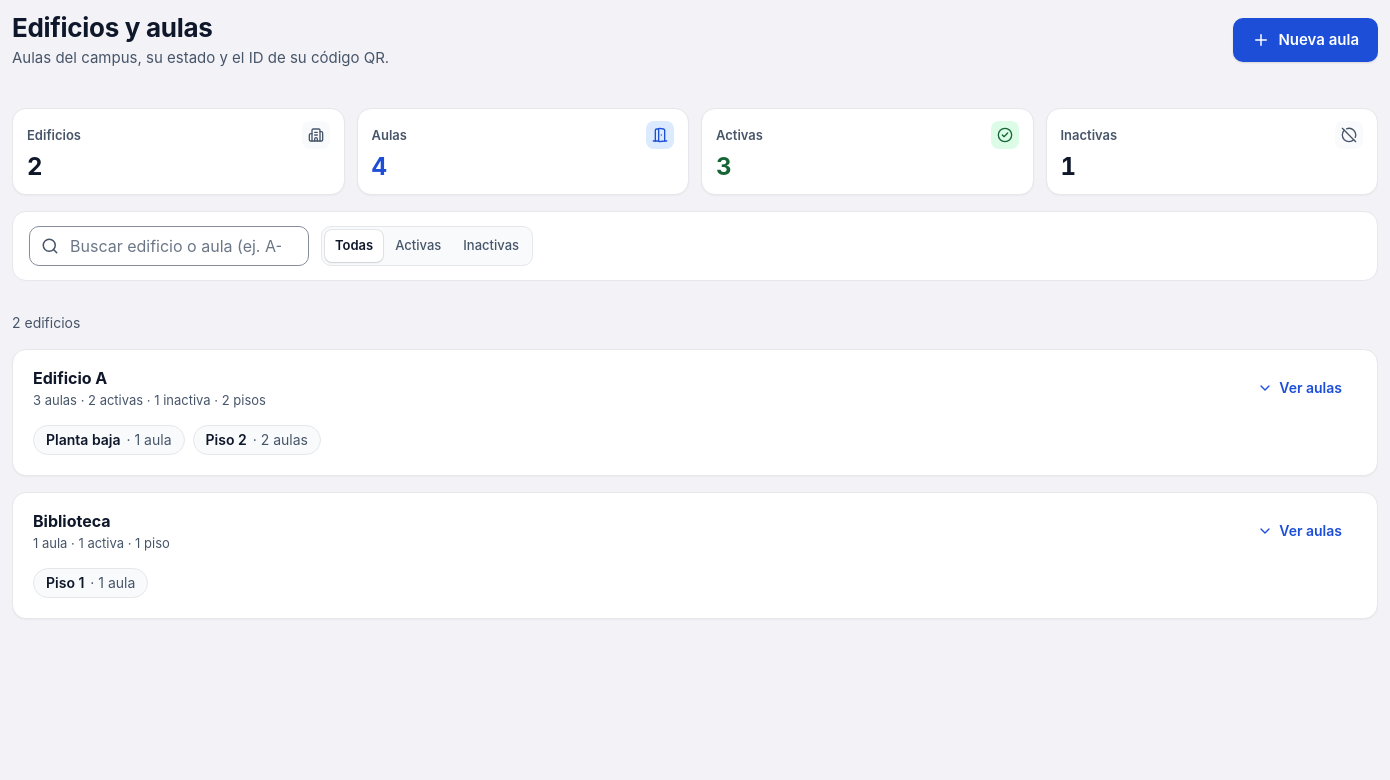
Test case: AdminEdificios › filtra por edificio, aula o estado y muestra sin resultados
Type "biblio" into the search field labelled "Buscar edificio o aula".
click(169, 246); type("biblio")  # box [29, 226, 309, 266]
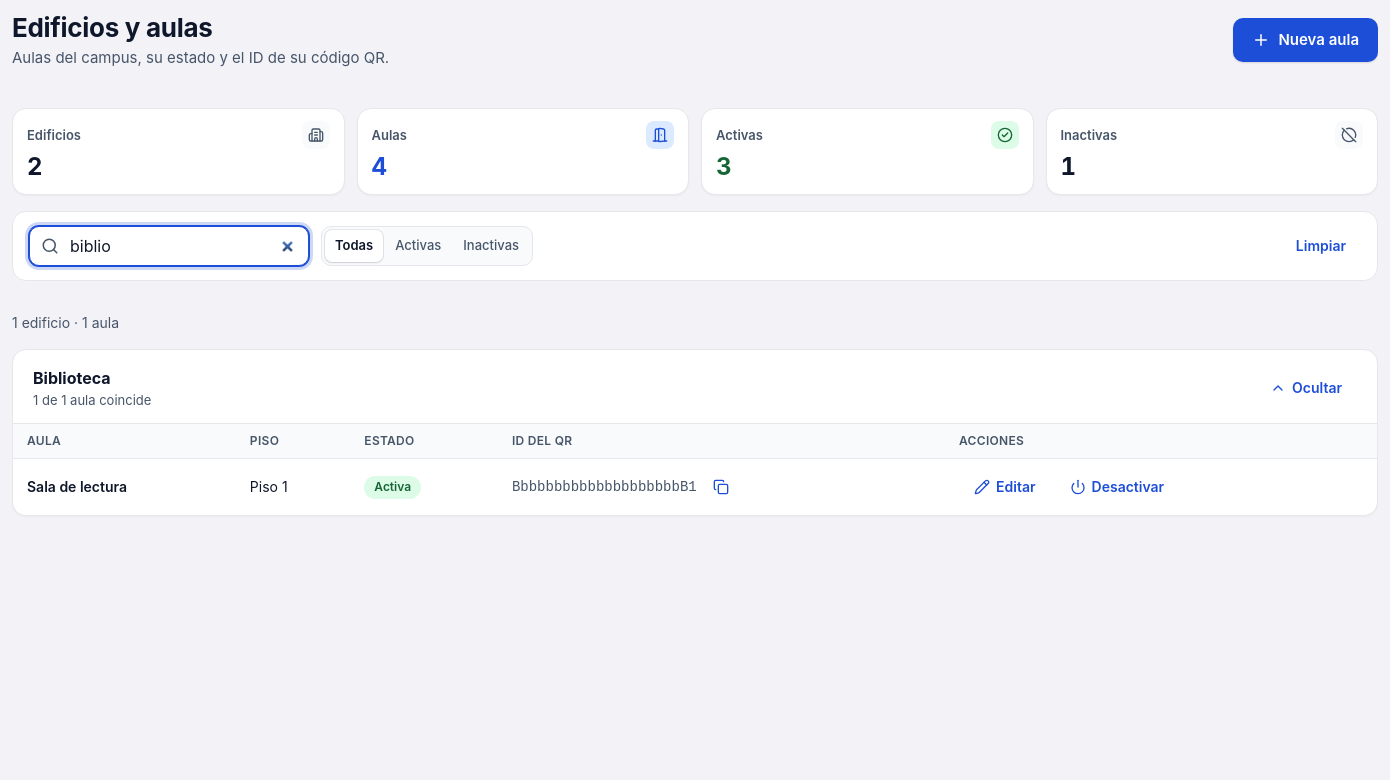
Expected: the heading "Biblioteca" is shown, [33, 368, 111, 388]
Now the heading "Edificio A" is gone
Replace the text in the search field named "Buscar edificio o aula" with "a-20" at (169, 246), box [29, 226, 309, 266]
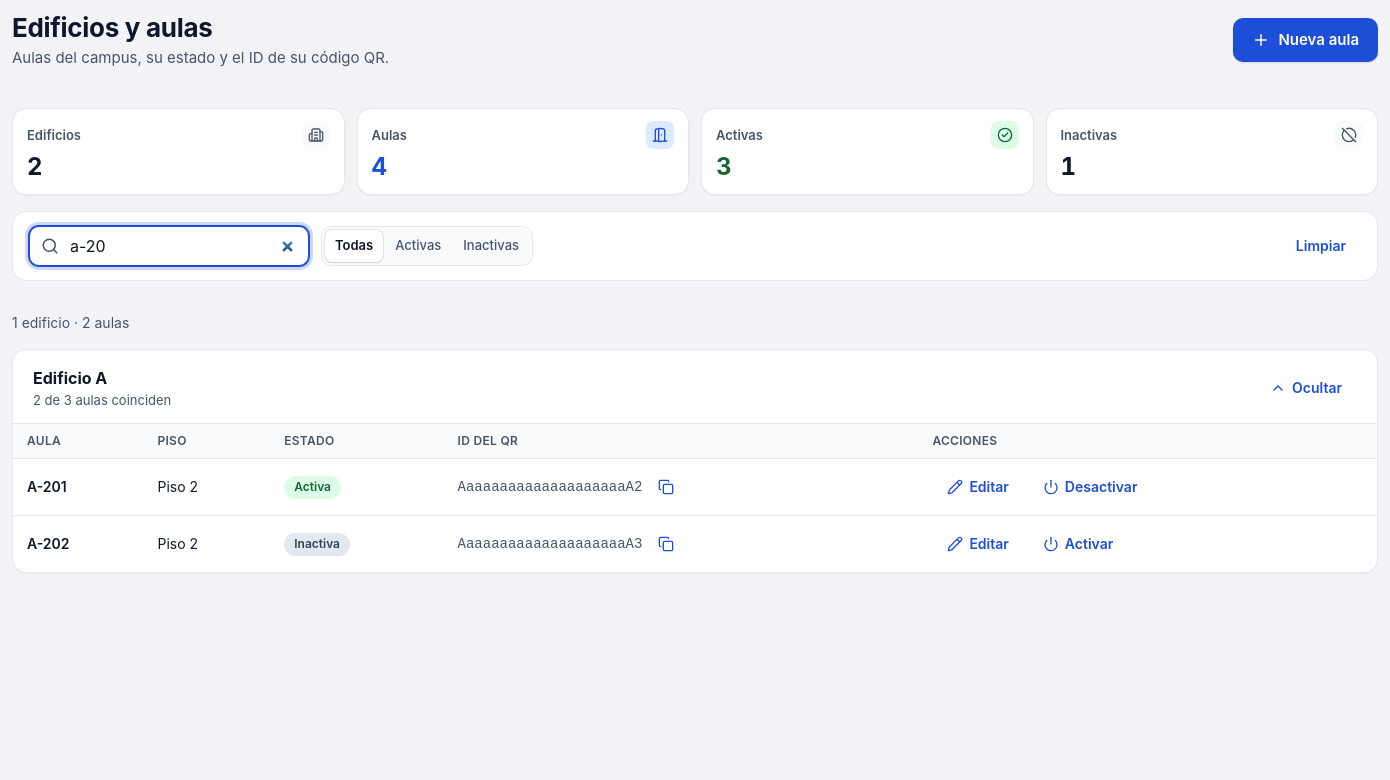
Now the text "2 de 3 aulas coinciden" is shown, box [33, 392, 171, 408]
Now the text "A-201" is shown, box [13, 459, 143, 516]
Click the button "Inactivas".
click(491, 246)  # box [453, 230, 529, 262]
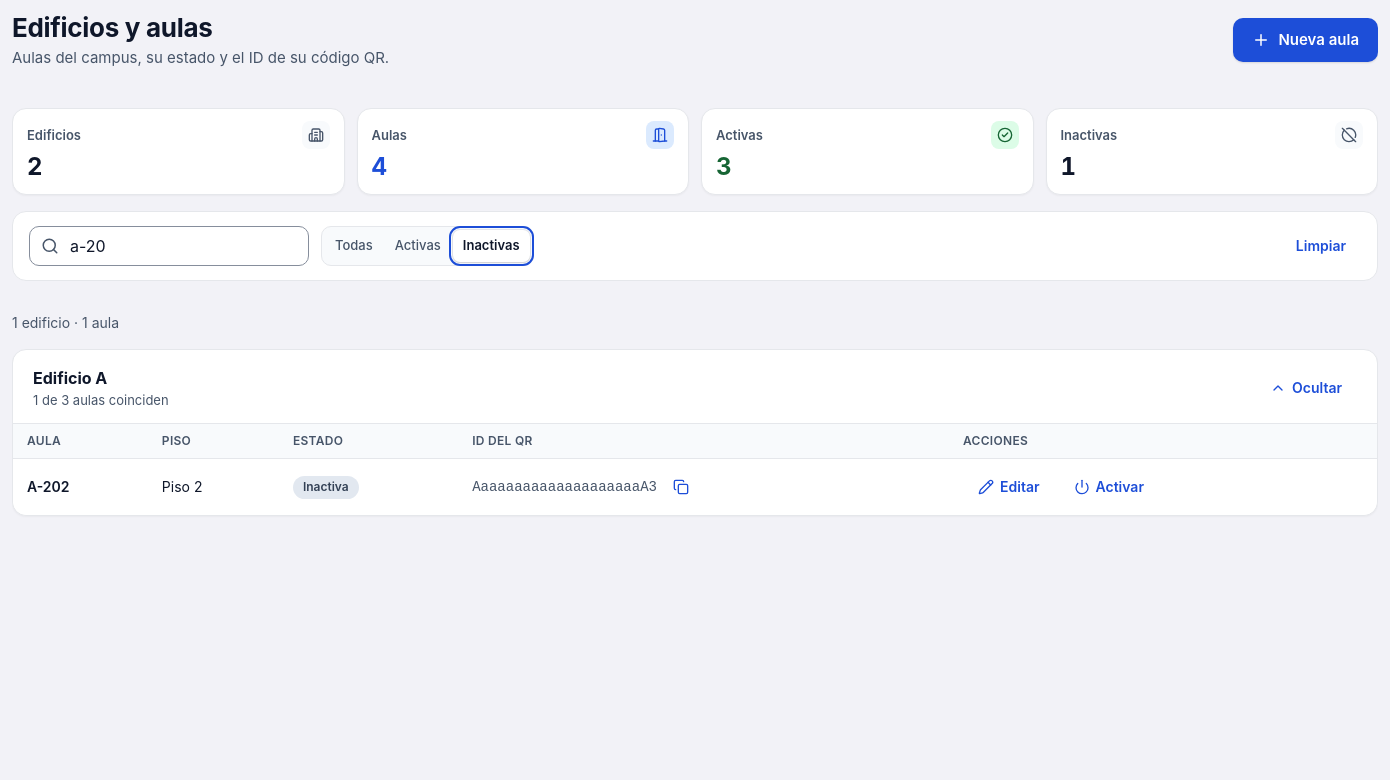
Now the text "1 de 3 aulas coinciden" is shown, box [33, 392, 169, 408]
Now the text "A-201" is gone
Replace the text in the search field named "Buscar edificio o aula" with "zzz" at (169, 246), box [29, 226, 309, 266]
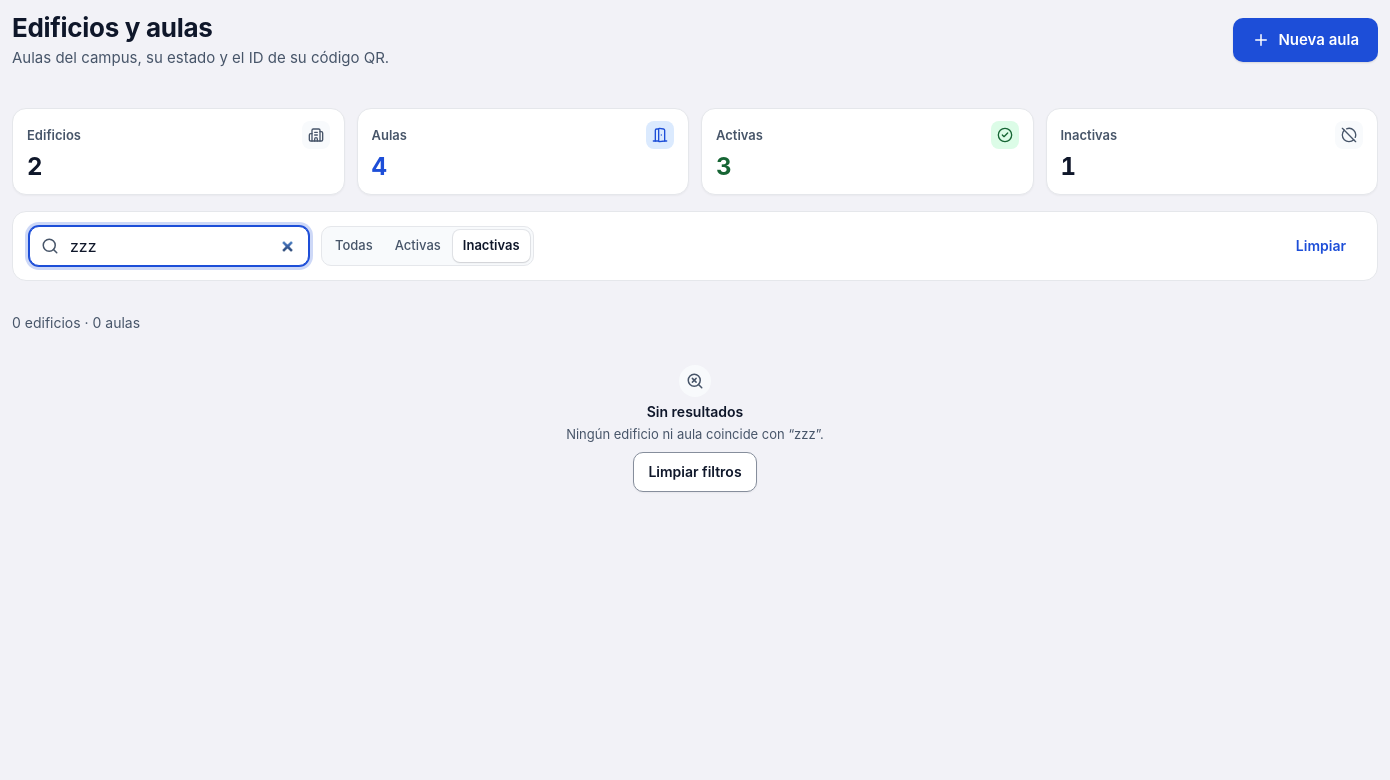
Now the heading "Sin resultados" is shown, box [647, 403, 743, 421]
Click the button "Limpiar filtros".
click(695, 472)  # box [633, 452, 757, 492]
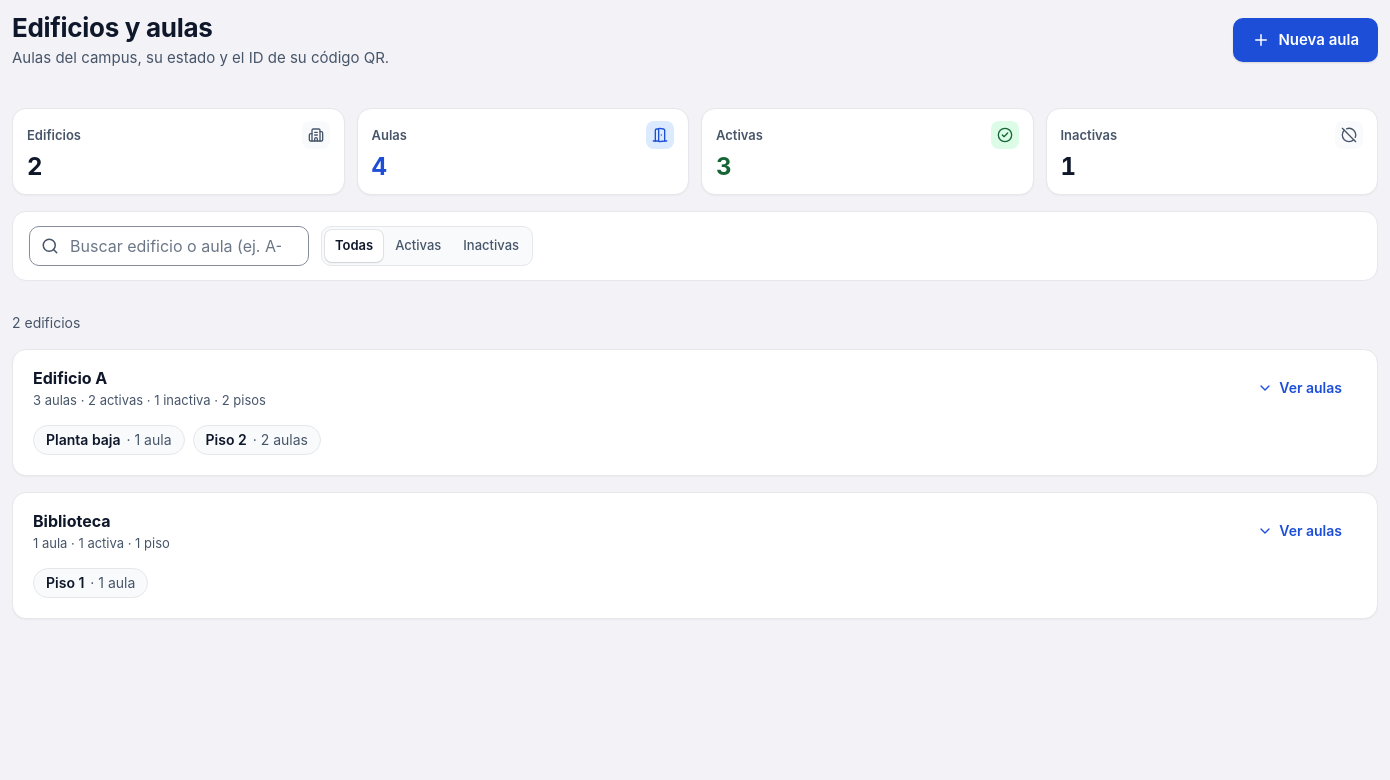
Now the heading "Biblioteca" is shown, box [33, 511, 111, 531]
